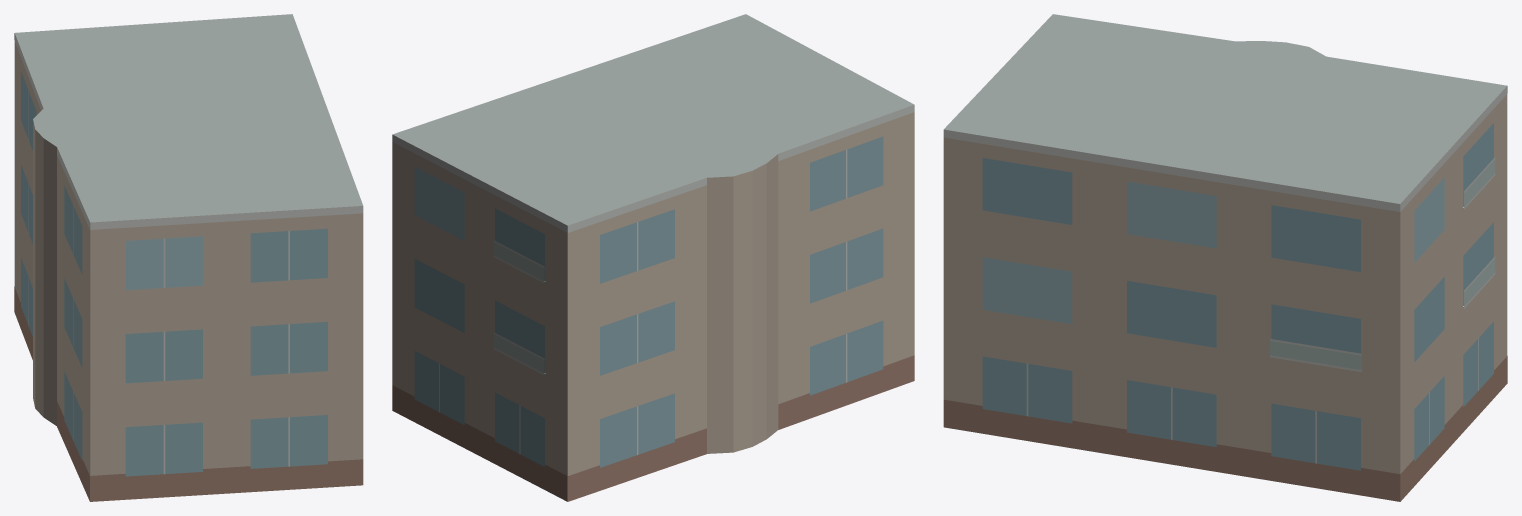
Rendered from survey-upis-32910445.glb.
3 views of the same model, side by side, from view 1: azimuth 30°, elevation 25°; view 2: azimuth 150°, elevation 25°; view 3: azimuth 270°, elevation 25° (orthographic). The views are drawn at different scales.
Visible parts, largest first — view 1: survey-upis-32910445.tmp; view 2: survey-upis-32910445.tmp; view 3: survey-upis-32910445.tmp.
Boxes of the visible parts, box(x1,y1,x2,y2) form: survey-upis-32910445.tmp: box(14, 14, 363, 501); survey-upis-32910445.tmp: box(392, 14, 914, 501); survey-upis-32910445.tmp: box(943, 14, 1507, 501).
Size of the model in its own units: 12.54 by 9.15 by 15.71.
